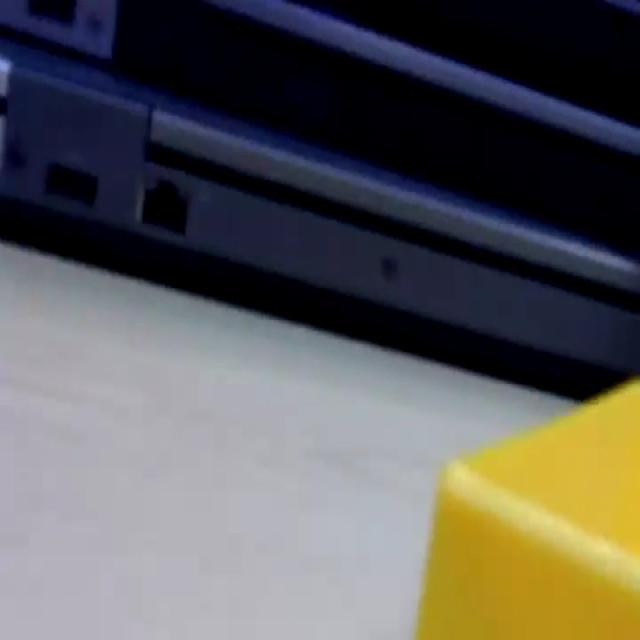yellow_block: (414, 375, 638, 637)
